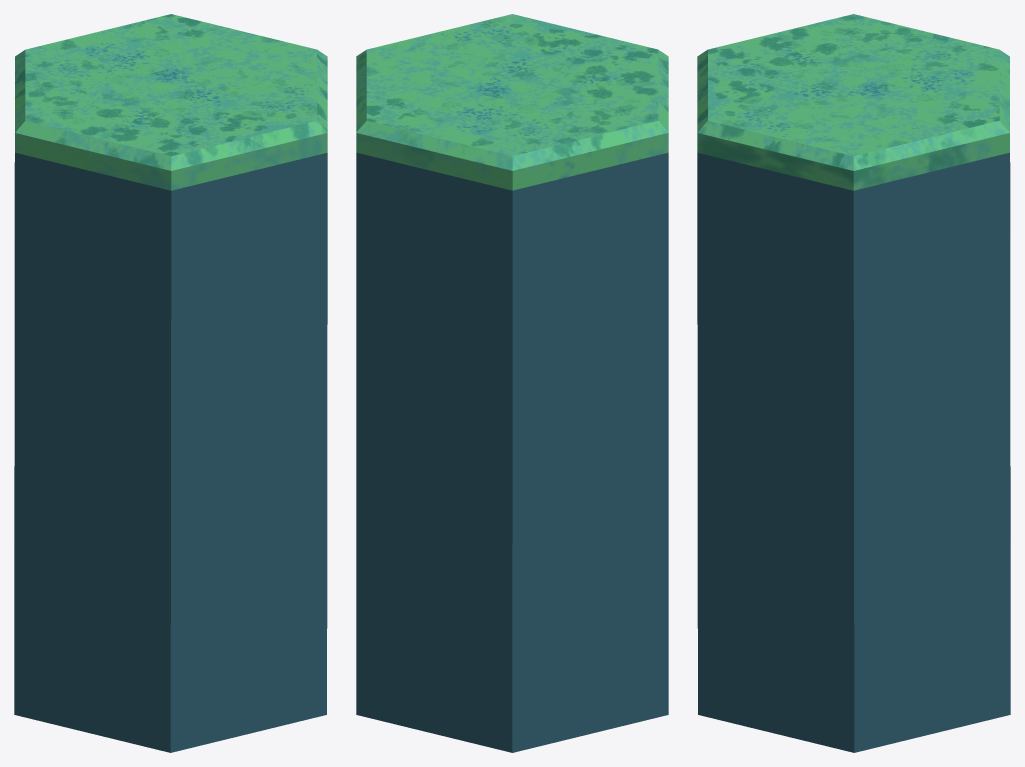
Rendered from TerrainDark.fbx.
3 views of the same model, side by side, from view 1: azimuth 30°, elevation 25°; view 2: azimuth 150°, elevation 25°; view 3: azimuth 270°, elevation 25° (orthographic).
Visible parts, largest first — view 1: TerrainDark_LOD0; view 2: TerrainDark_LOD0; view 3: TerrainDark_LOD0.
Part boxes in pixels (box(x1,y1,x2,y2)): TerrainDark_LOD0: box(14, 14, 327, 752); TerrainDark_LOD0: box(356, 14, 668, 752); TerrainDark_LOD0: box(697, 14, 1010, 752).
Size of what is drawn, in the model's own units: 500 by 904 by 434.
